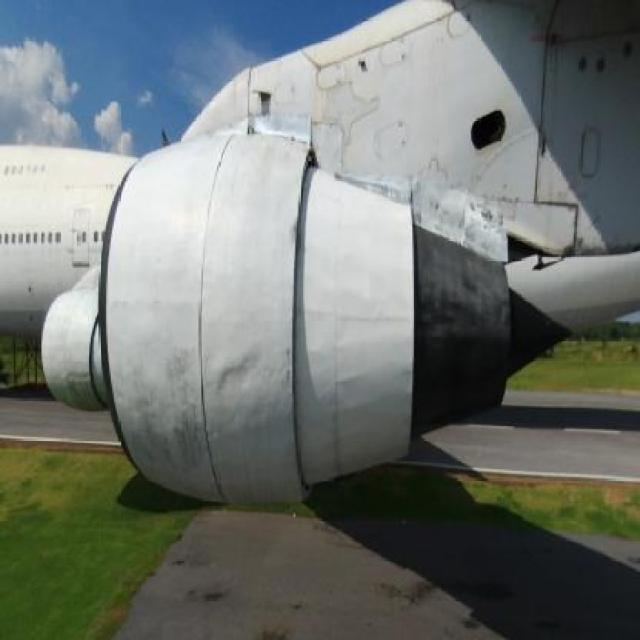Scartch: (132, 333, 212, 478)
